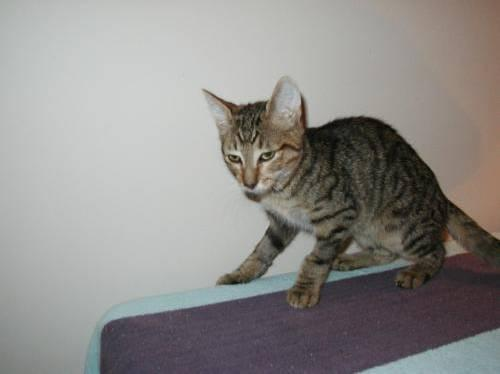cat: (202, 77, 499, 307)
